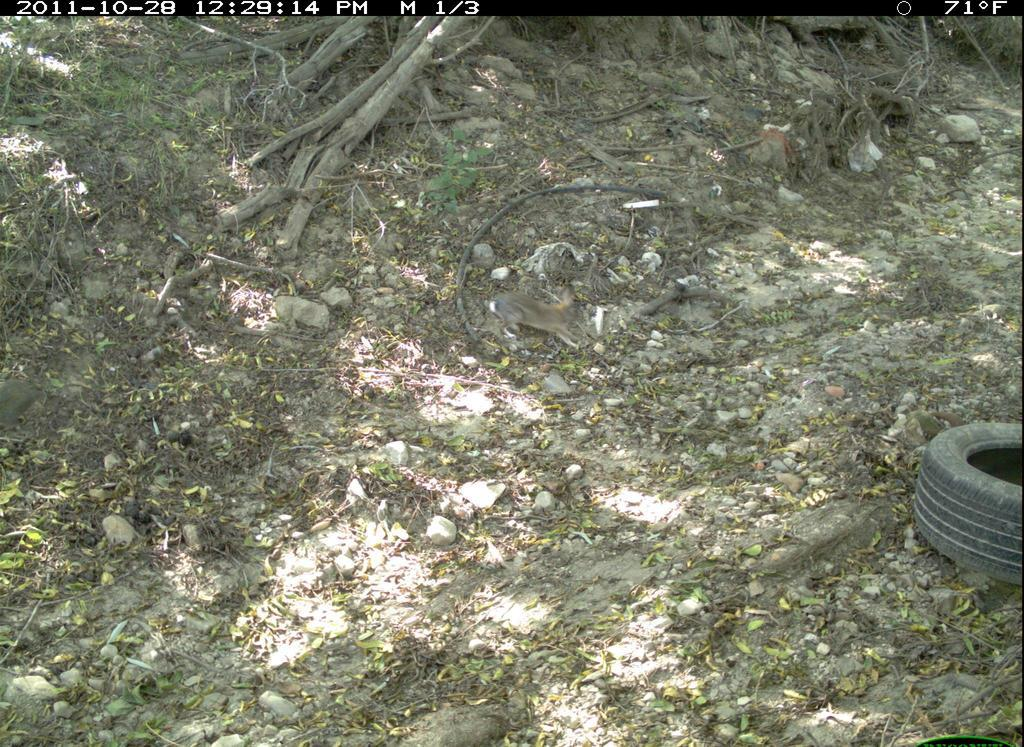rabbit: (479, 280, 594, 361)
